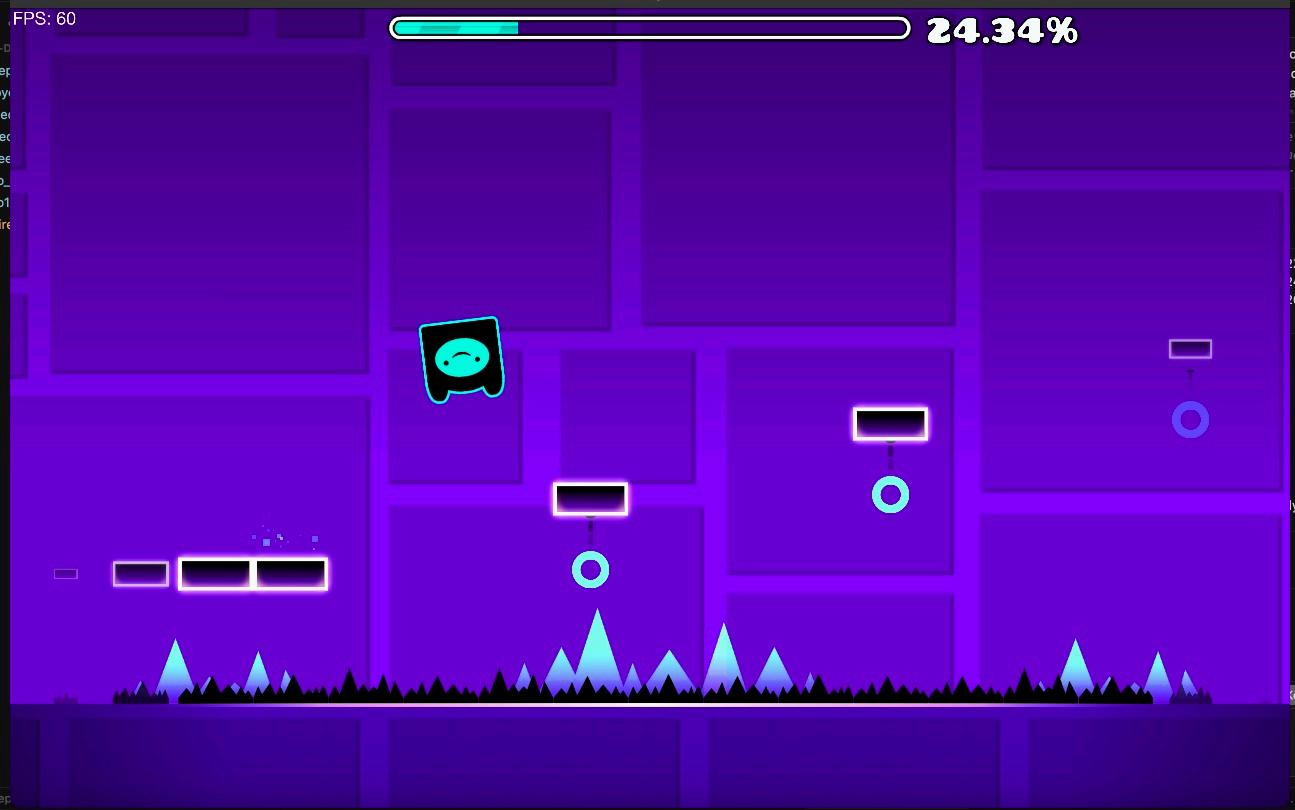platform: (852, 405, 929, 513), (113, 556, 327, 591), (553, 481, 629, 542), (1170, 339, 1211, 363), (573, 552, 608, 580)
player: (420, 318, 504, 403)
spike: (114, 641, 477, 703), (856, 641, 1211, 702), (479, 617, 702, 702), (705, 650, 851, 702)
